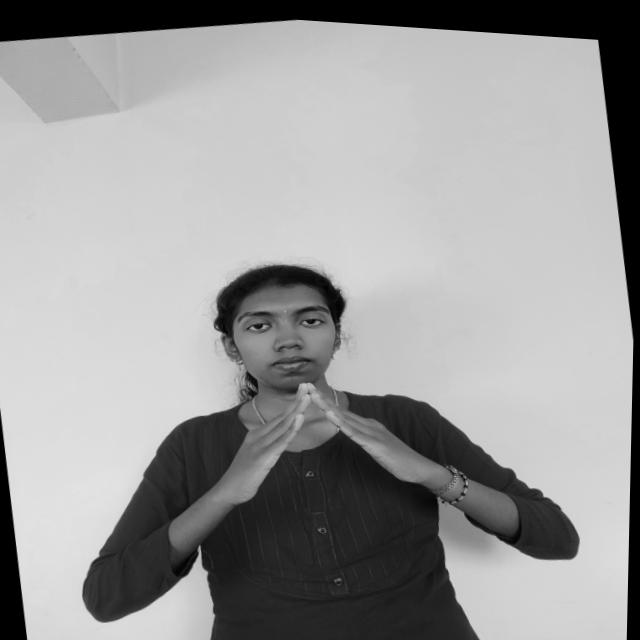Home: (186, 347, 456, 529)
